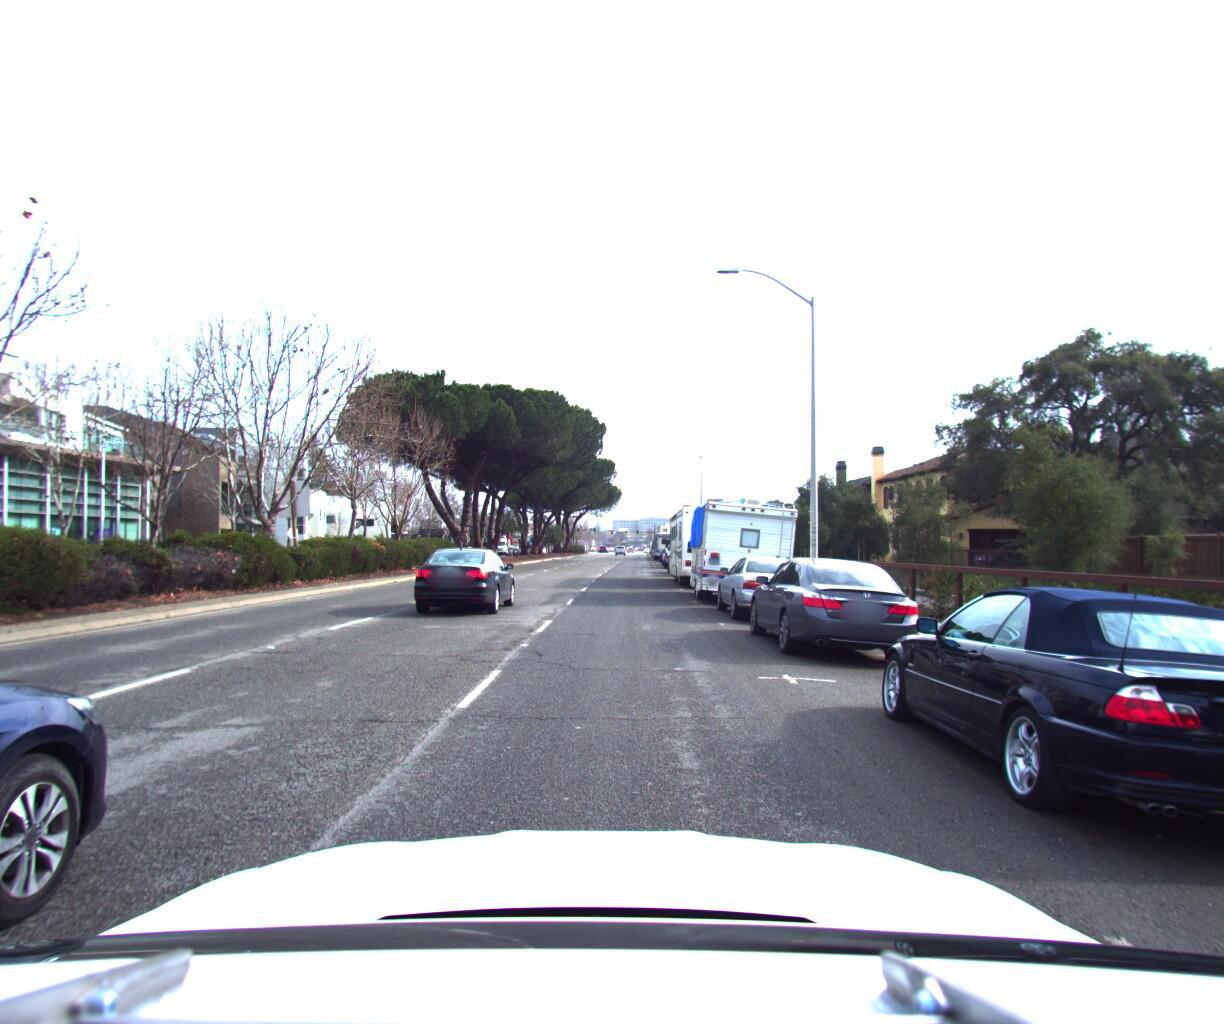car: (857, 567, 1224, 886), (742, 545, 929, 667), (711, 544, 829, 623), (409, 539, 521, 613)
other_vehicle: (686, 485, 800, 604), (667, 485, 755, 585)
